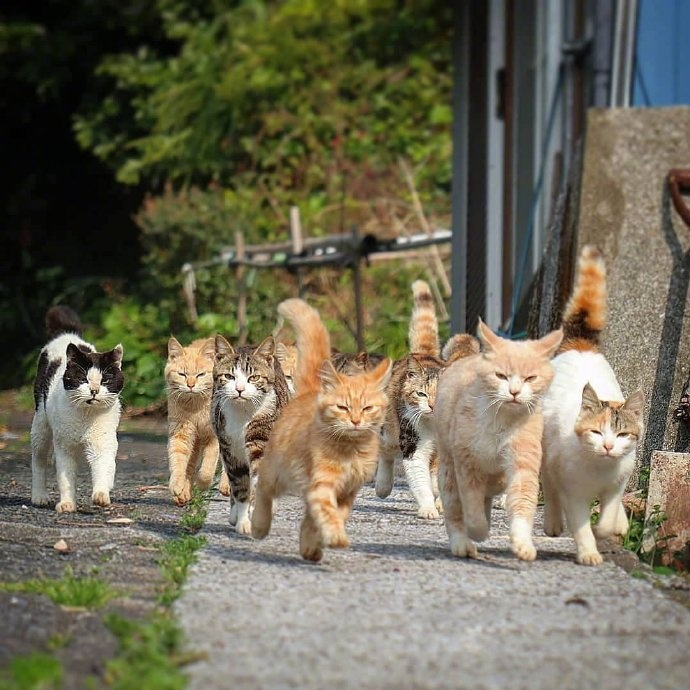cat: (251, 299, 395, 563), (538, 244, 645, 567), (432, 317, 564, 563), (30, 306, 124, 516), (210, 333, 292, 535), (378, 352, 451, 520), (163, 335, 216, 506)
